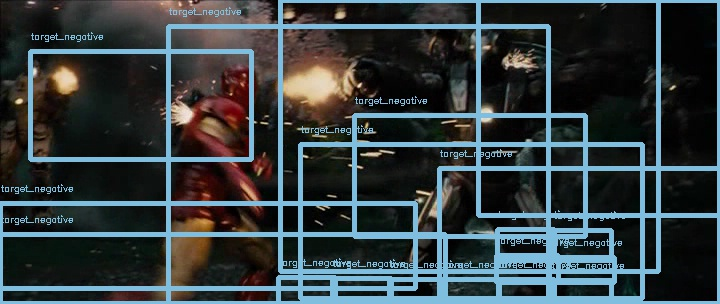person: (213, 66, 258, 104), (212, 66, 257, 104), (214, 66, 259, 104), (213, 65, 258, 103), (213, 67, 258, 105)
target_negative: (348, 44, 529, 293), (223, 11, 476, 186), (237, 133, 518, 231), (405, 220, 576, 259), (107, 98, 177, 107), (578, 290, 592, 297)
